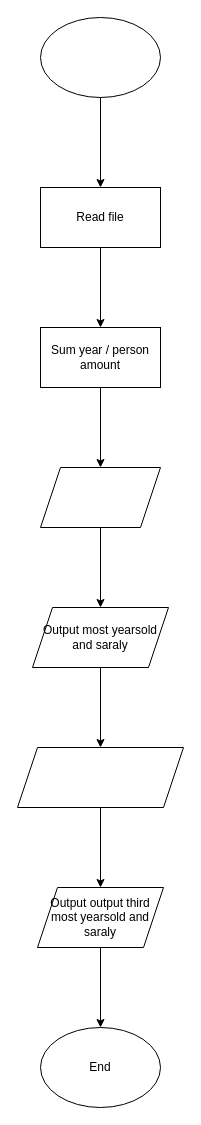
This 201x1125 diagram has some shape labels left out. The shapes that lost their labels are listed below. From the top down, each one's centre as x and y in pixels, then its label:
At (x=100, y=57): "Start".
At (x=100, y=497): "Output Averange".
At (x=100, y=777): "Output output second most yearsold and saraly".
